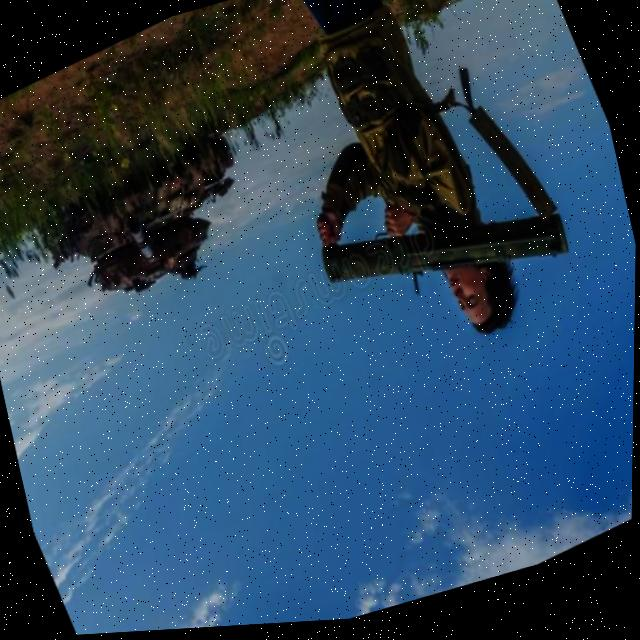rocket: (307, 146, 591, 372)
